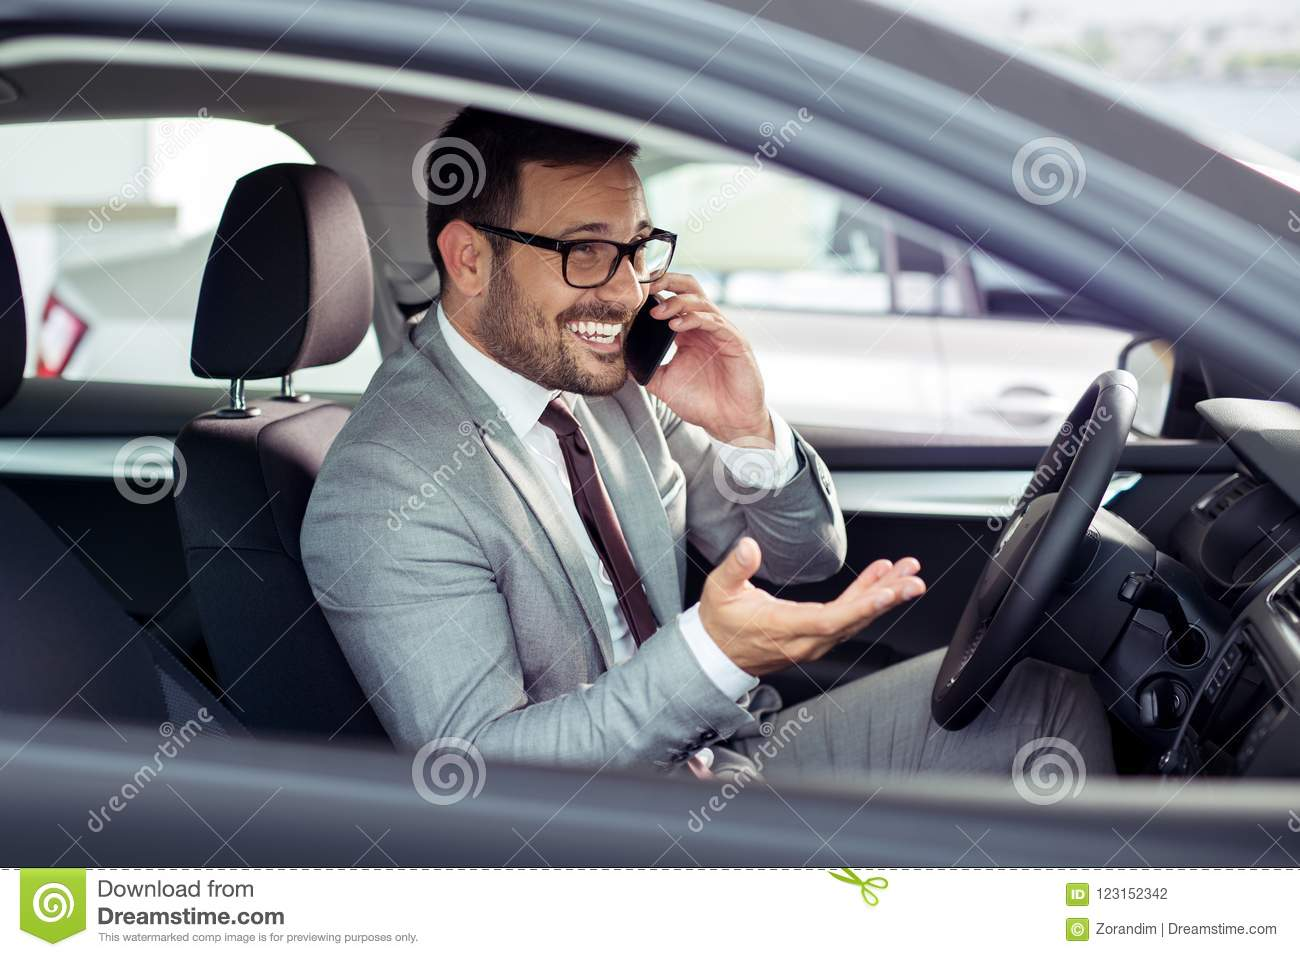phone: (625, 297, 691, 387)
talk: (533, 205, 765, 442)
